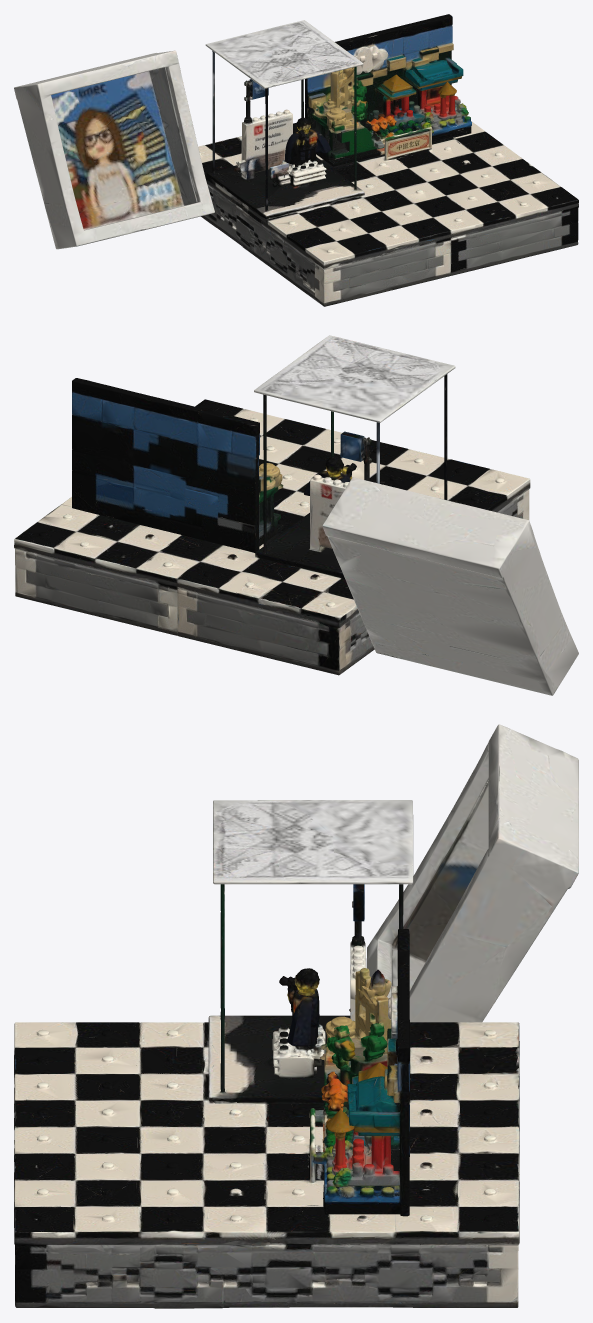
Rendered from cabinet-right.optimized.glb.
The picture shows the model from 3 angles, top to bottom: view 1: azimuth 30°, elevation 25°; view 2: azimuth 150°, elevation 25°; view 3: azimuth 270°, elevation 25°; orthographic projection. The views are drawn at different scales.
Bounding box in the file's own units: 1.9 × 0.822 × 1.38.
Materials: 1 (1 with a texture image).
